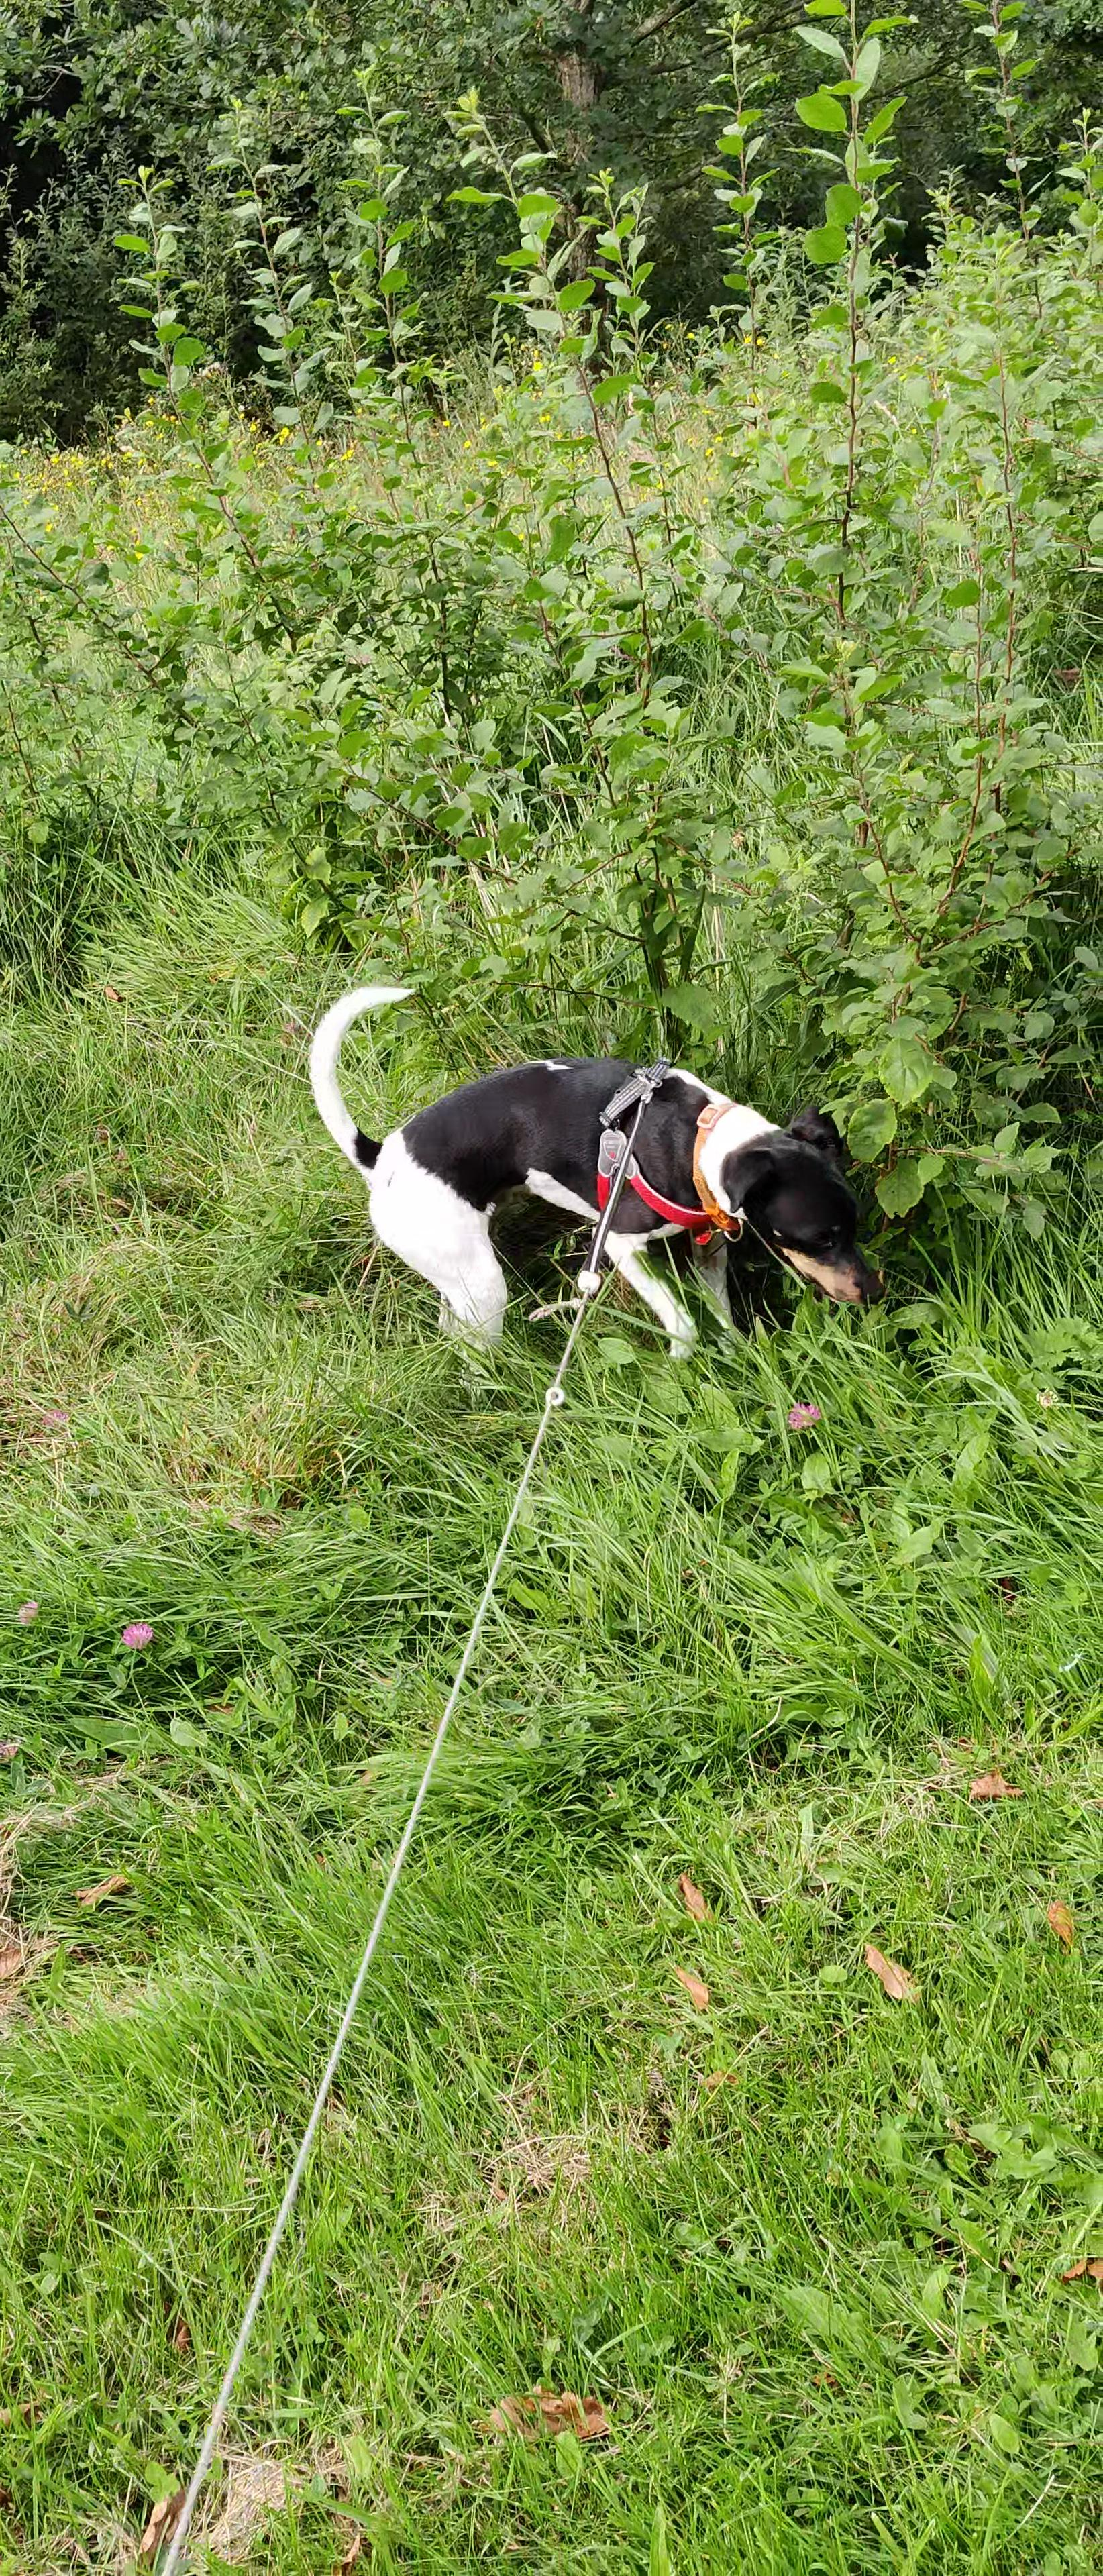Dog: (301, 981, 889, 1370)
